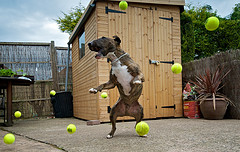tennis ball: (204, 15, 219, 31), (135, 121, 150, 137), (170, 62, 183, 74), (3, 133, 15, 144), (66, 123, 76, 133), (117, 1, 128, 9), (13, 109, 21, 118), (49, 89, 56, 97), (100, 91, 107, 98)
